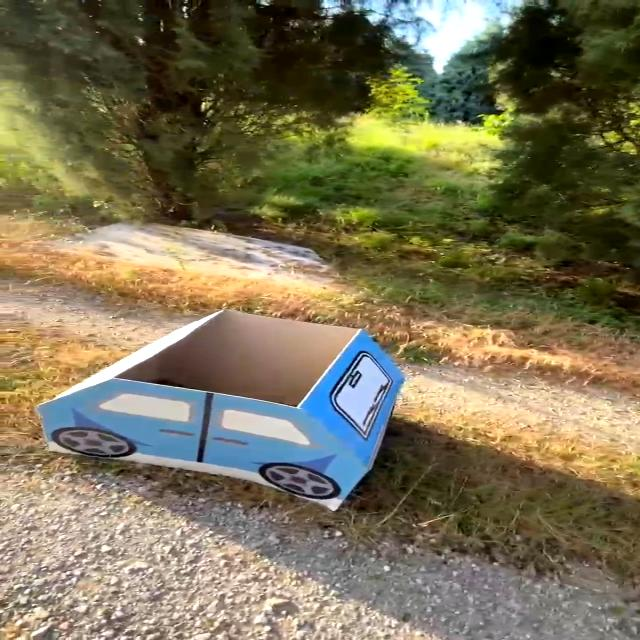blue_car: (9, 263, 439, 534)
